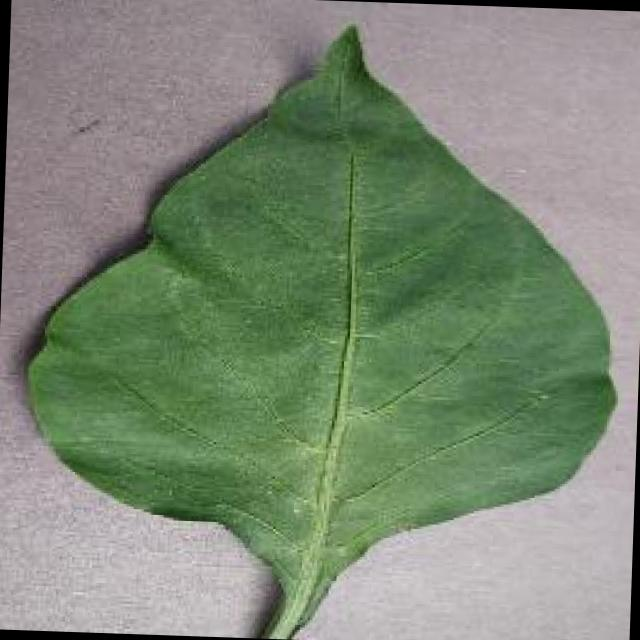Chilli_Healthy: (14, 10, 630, 640)
